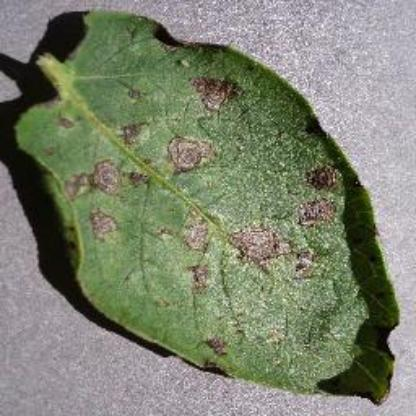Early-Blight: (9, 3, 412, 415)
